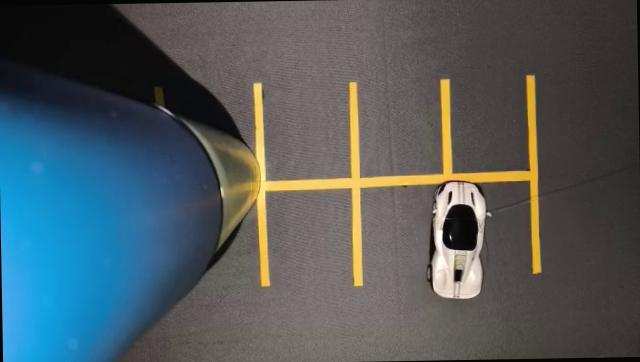toy_car: (356, 150, 529, 338)
